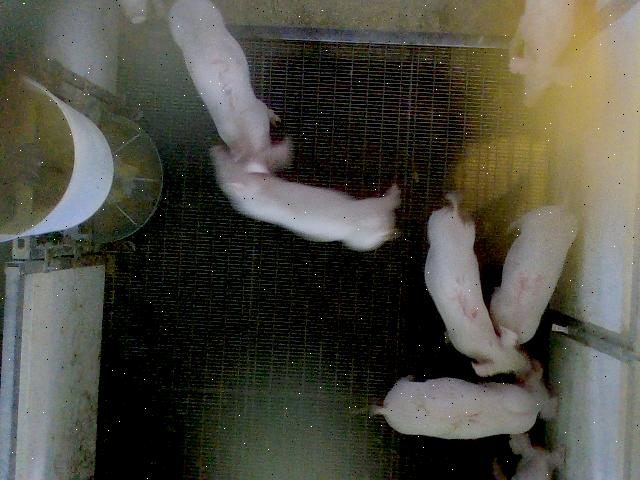pig-3: (169, 1, 289, 172)
pig-4: (490, 206, 578, 344)
pig-5: (425, 196, 529, 376)
